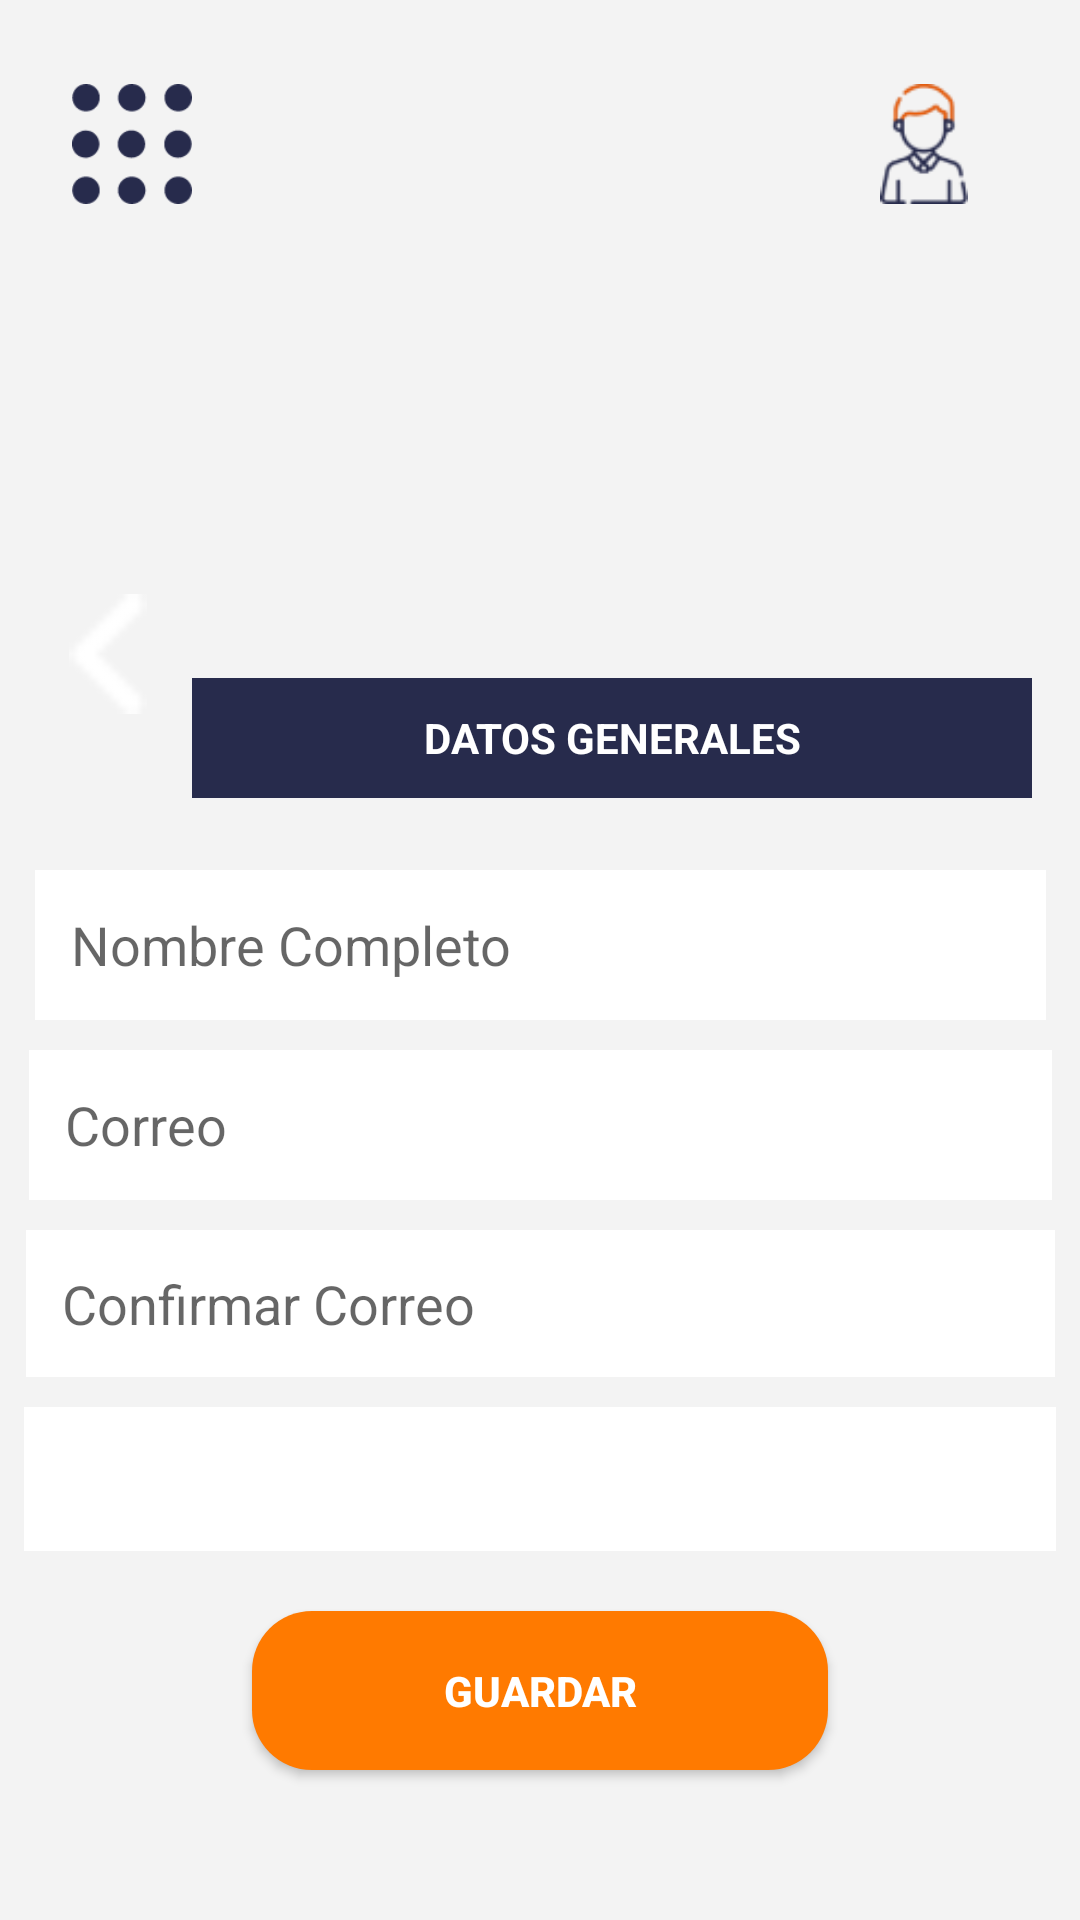

Screen size 1080 x 1920. Icon name, then its center in pixels as (x=x, y=y):
menu: (x=132, y=144)
profile: (x=924, y=144)
